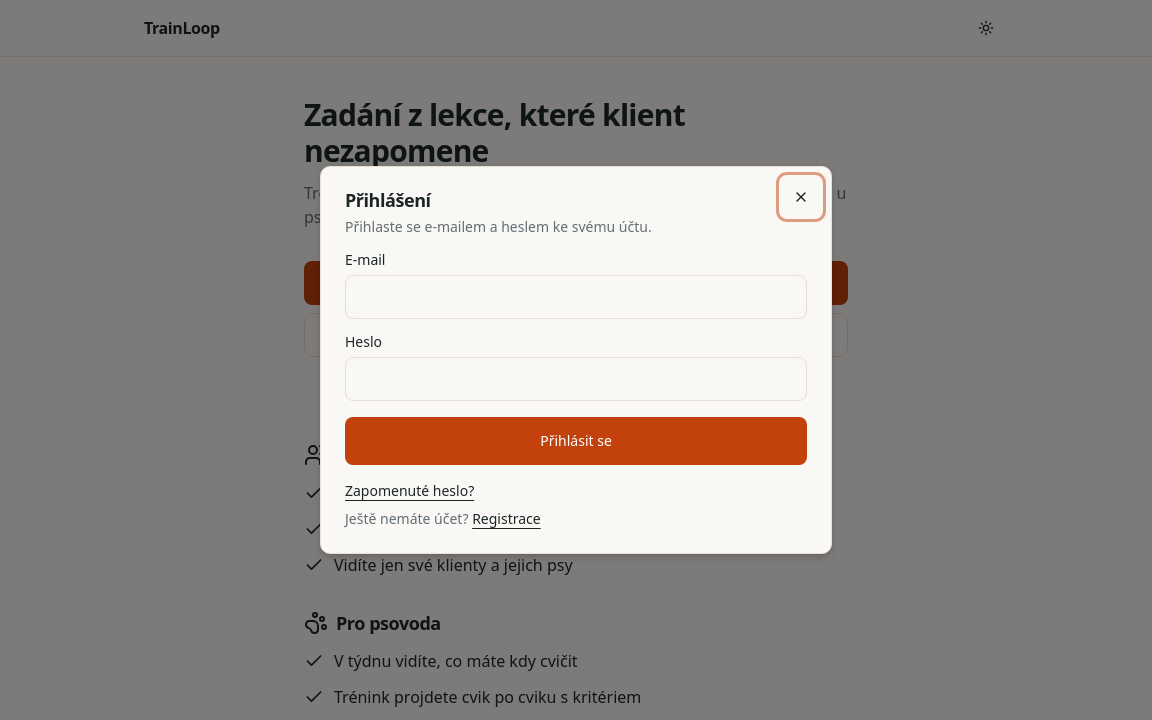
login and logout › shows the same non-identifying error for INVALID_EMAIL_OR_PASSWORD
Expected: the dialog is shown, [320,166,832,554]
Type "jana@example.com" into the field labelled "E-mail" at (576, 297), box [345,275,807,319]
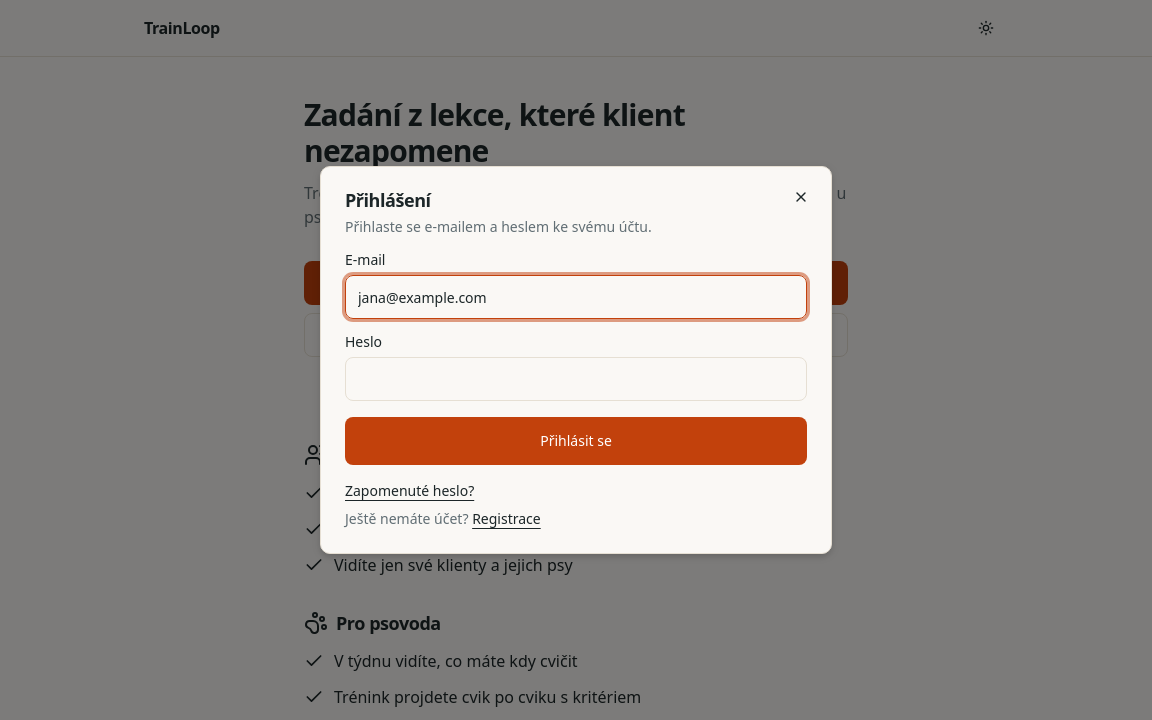
Type "password123" into the password field labelled "Heslo" at (576, 379), box [345,357,807,401]
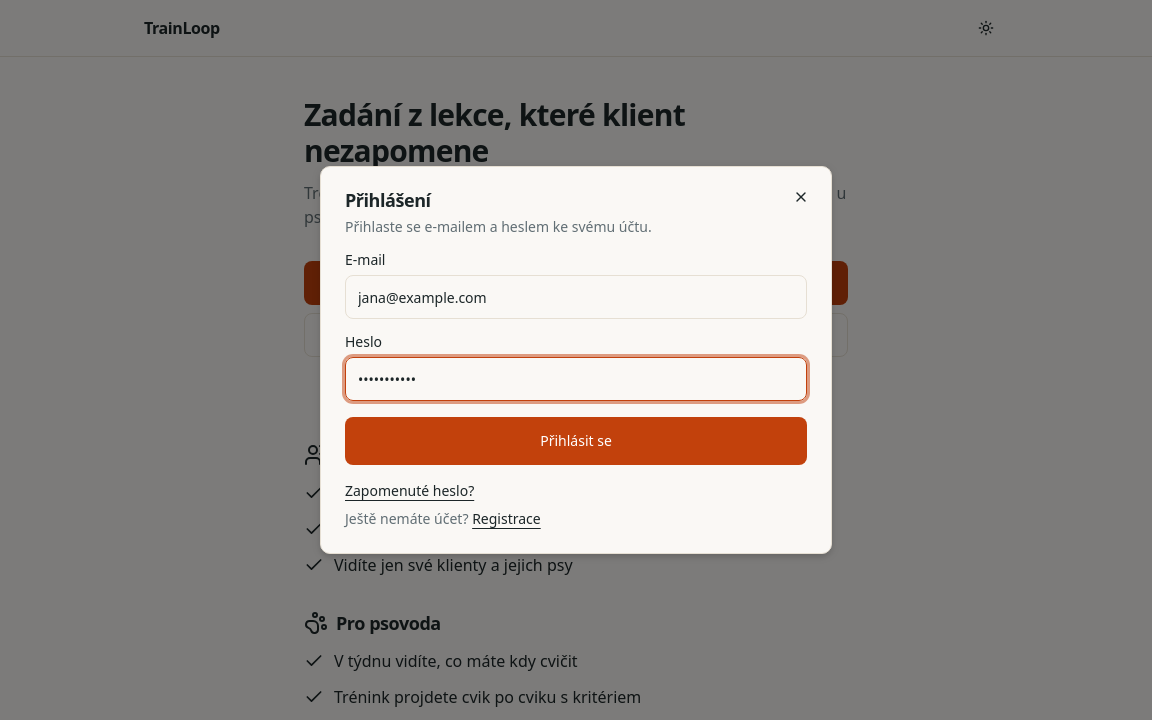
Click the button "Přihlásit se" at (576, 441), box [345,417,807,465]
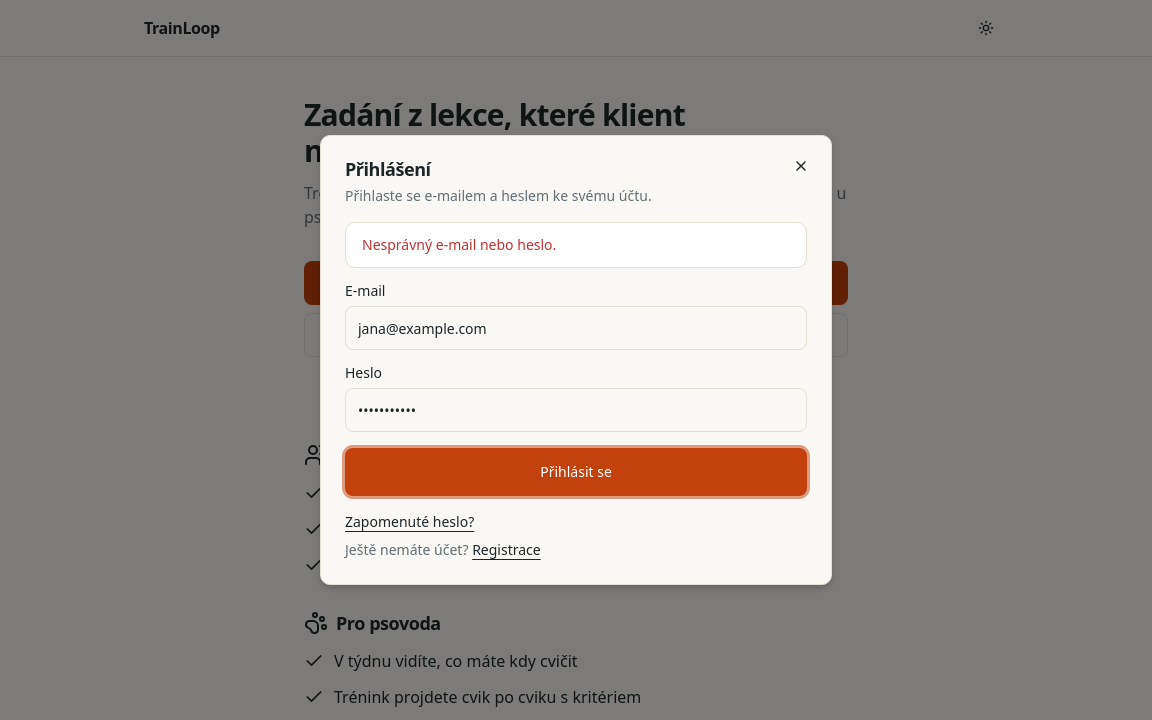
Expected: the message reads "Nesprávný e-mail nebo heslo.", [362,235,556,254]
Expected: the number of messages is 1, [345,222,807,268]
